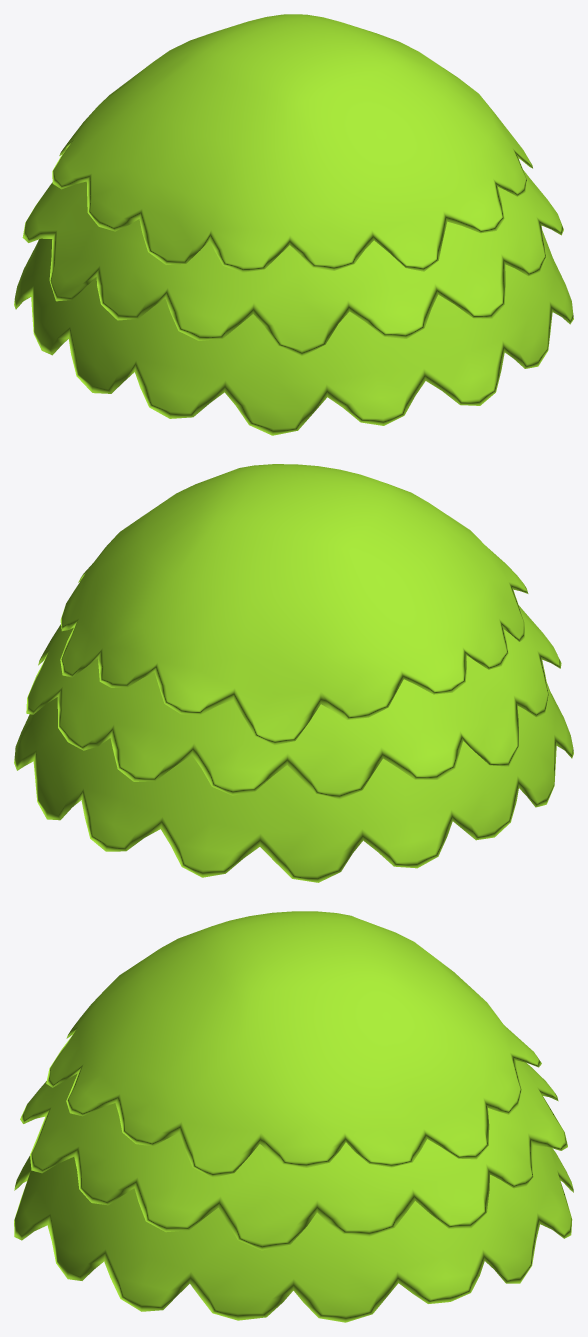
File: Bush.fbx
The picture shows the model from 3 angles, top to bottom: view 1: azimuth 30°, elevation 25°; view 2: azimuth 150°, elevation 25°; view 3: azimuth 270°, elevation 25°; orthographic projection.
Parts seen in each view (by area): view 1: Cube.002, Cube.001, Cube; view 2: Cube.002, Cube.001, Cube; view 3: Cube.002, Cube.001, Cube.
Part boxes in pixels (bbox=[...]): Cube.002: bbox=[52, 14, 532, 272]; Cube.001: bbox=[14, 231, 573, 435]; Cube: bbox=[22, 170, 563, 356]; Cube.002: bbox=[60, 464, 528, 745]; Cube.001: bbox=[14, 683, 573, 882]; Cube: bbox=[26, 605, 561, 799]; Cube.002: bbox=[46, 911, 541, 1177]; Cube.001: bbox=[14, 1145, 573, 1322]; Cube: bbox=[20, 1060, 567, 1250].
Size of the model in its own units: 457 by 269 by 481.
